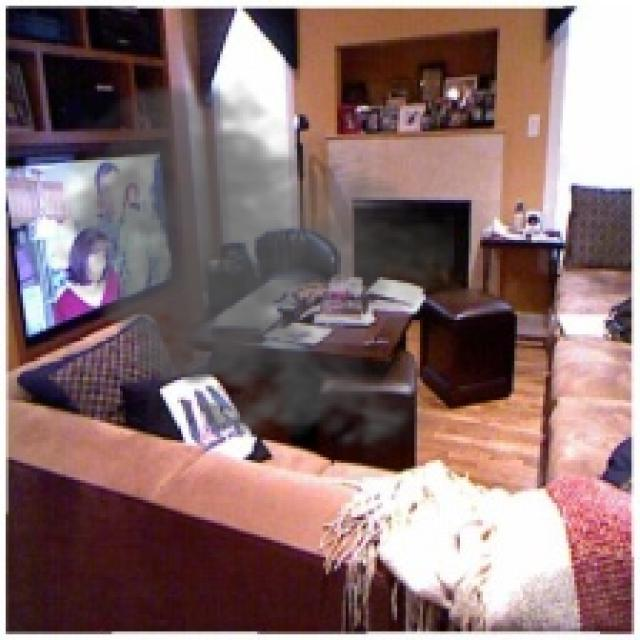smoke: (40, 77, 454, 460)
